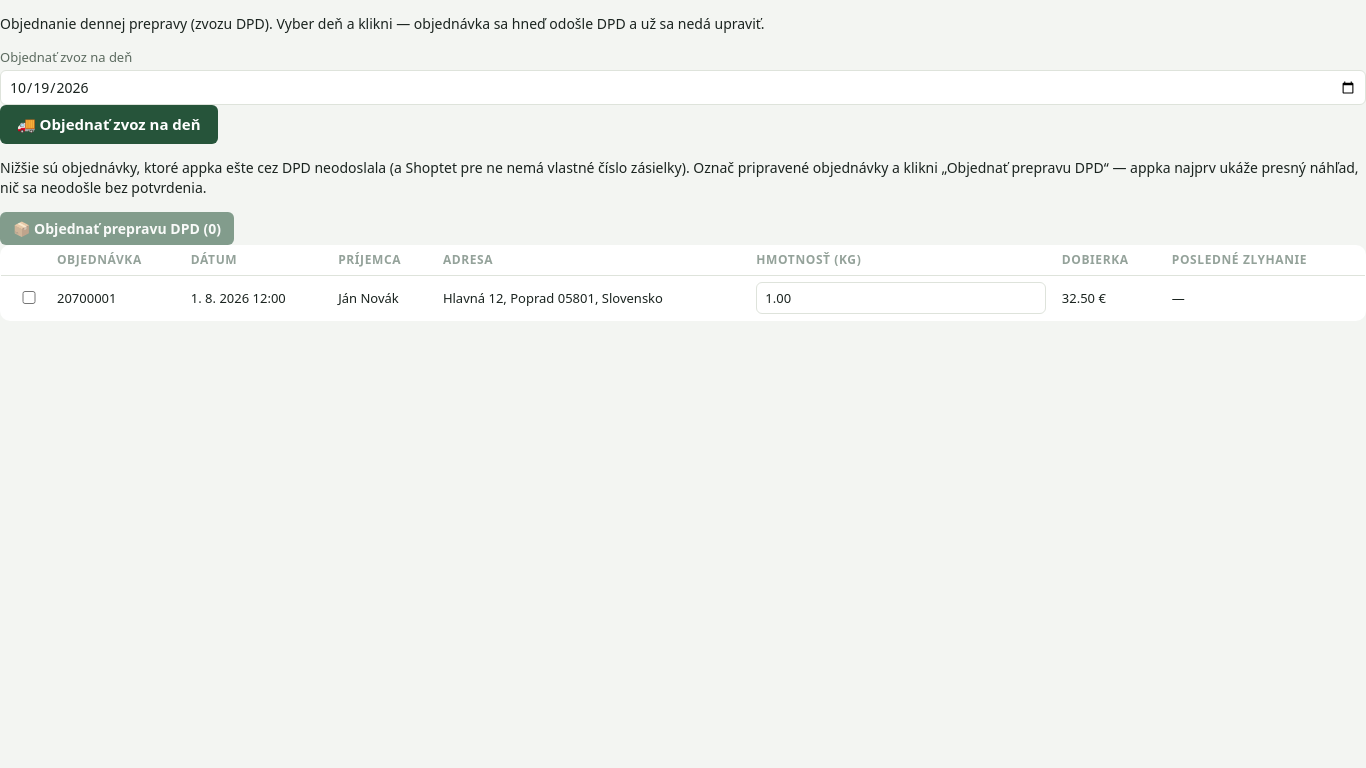
Test: výber objednávky → náhľad → potvrdenie odošle IBA po druhom kliku, nikdy pri otvorení náhľadu
Click the checkbox named "Vybrať objednávku 20700001" at [29, 298], box [13,291,45,304]
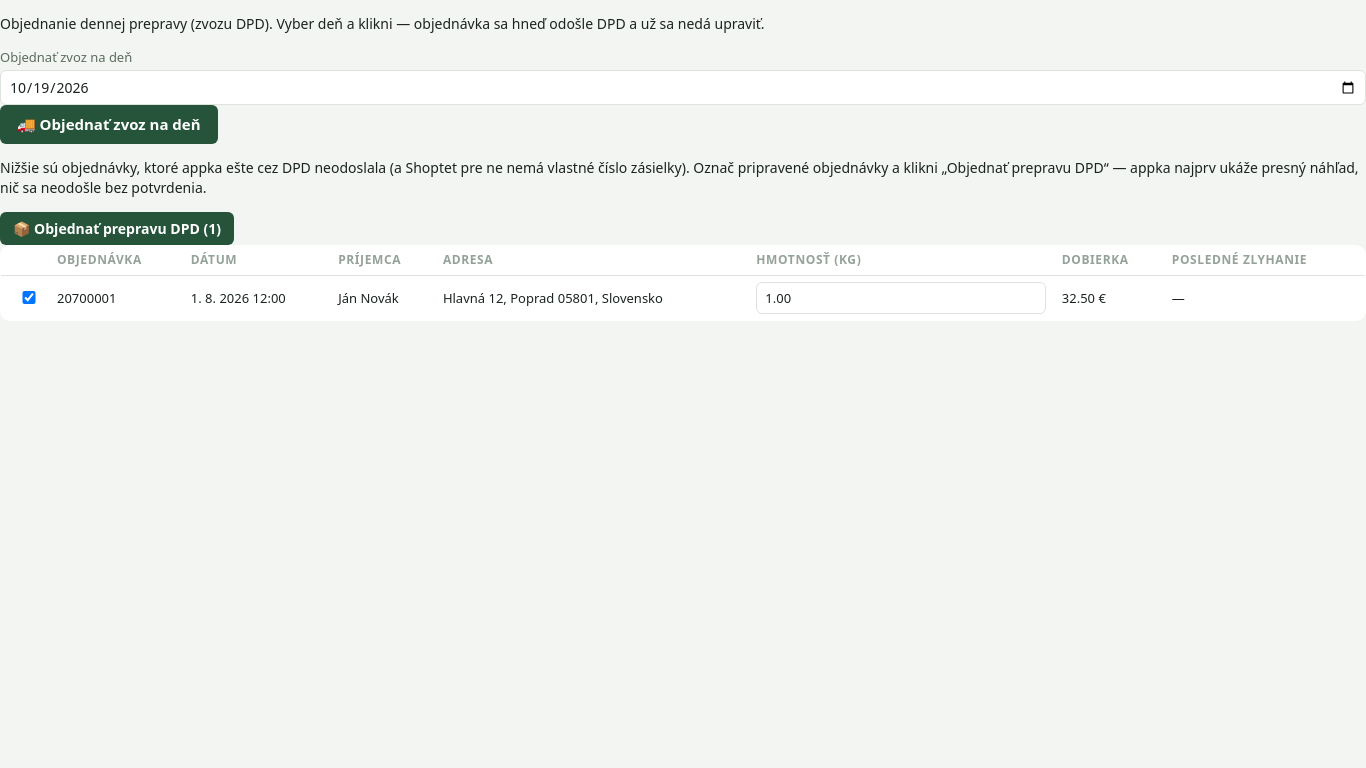
Click the button with test id "dpd-open-preview" at [117, 228], box [0,212,234,245]
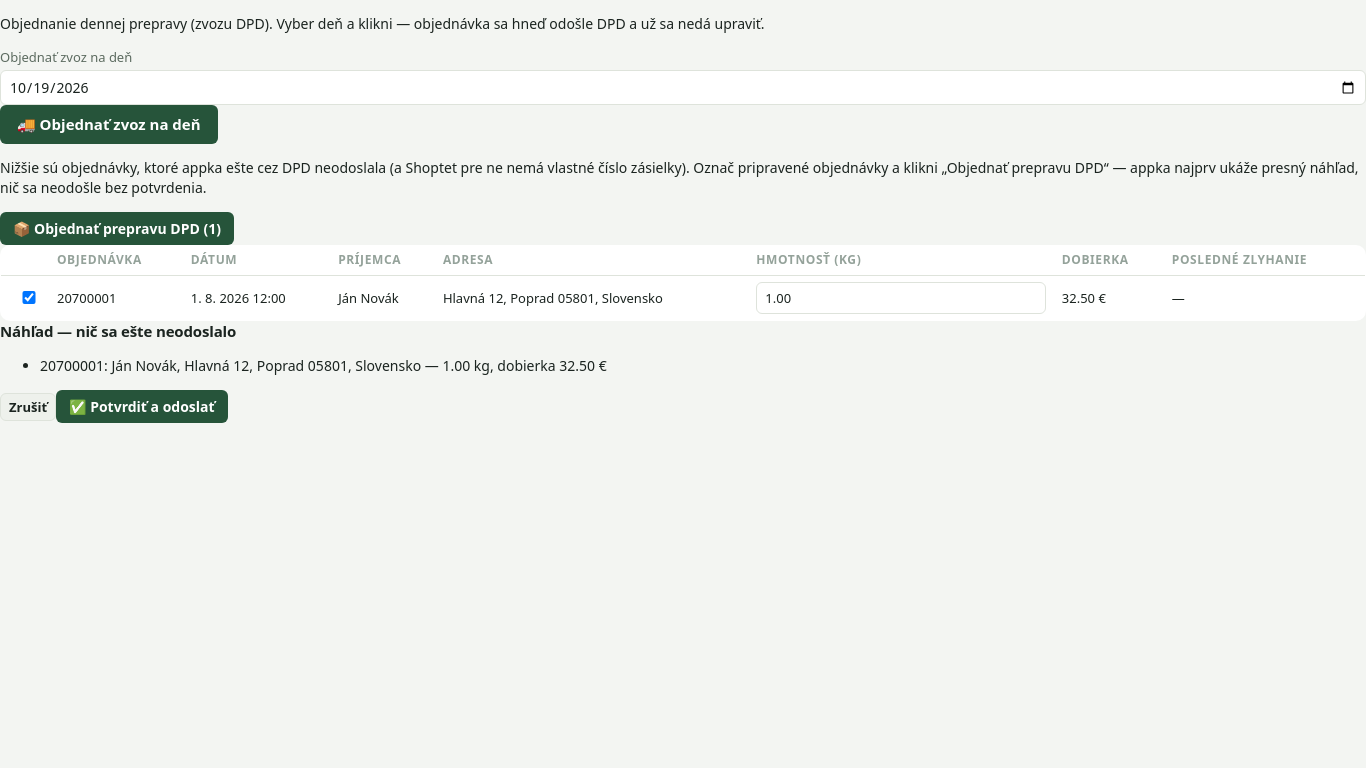
Now the dialog with test id "dpd-preview-dialog" is shown, box [0,321,607,423]
Now the list item with test id "dpd-preview-item-20700001" shows "Hlavná 12, Poprad 05801, Slovensko", box [40,356,607,375]
Click the button with test id "dpd-preview-confirm" at [142, 406], box [56,390,228,423]
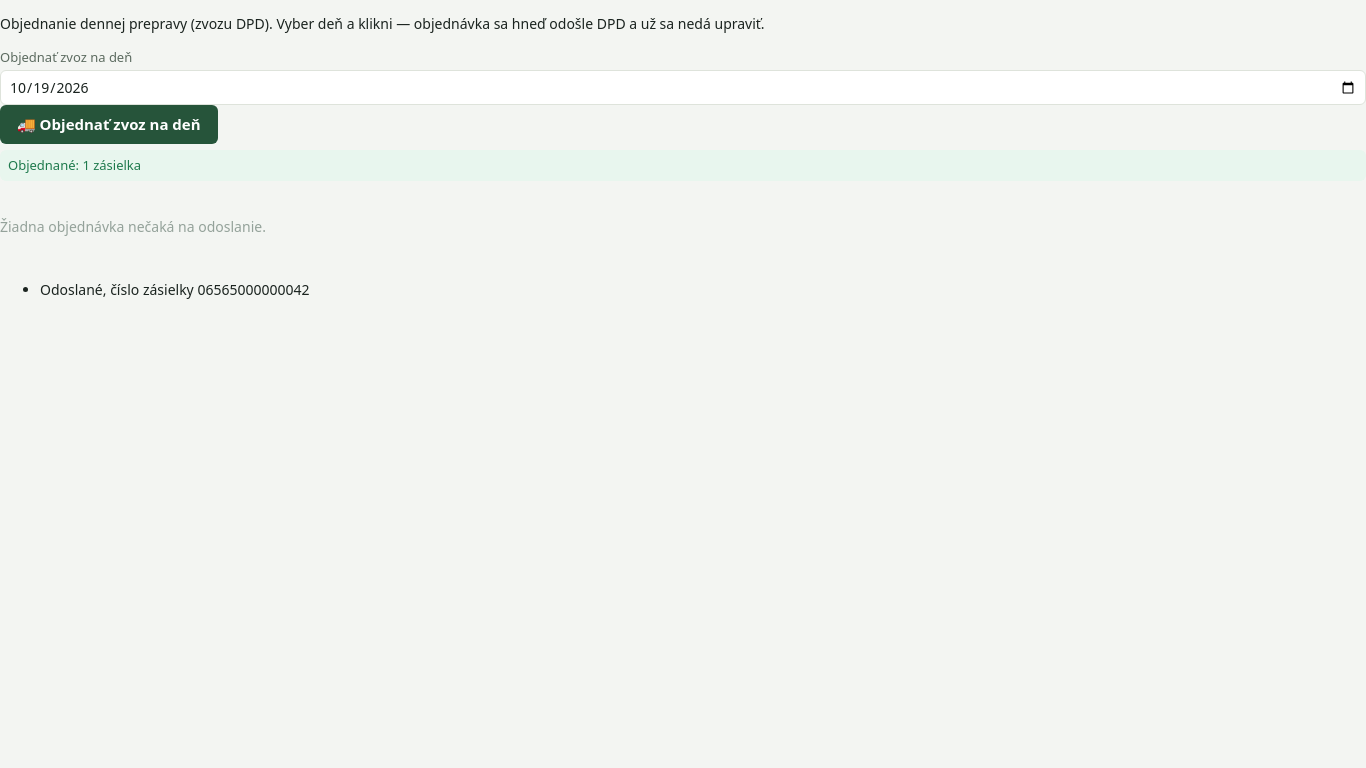
Now the list item with test id "dpd-result-order-a" shows "06565000000042", box [40,280,310,299]
Now the dialog with test id "dpd-preview-dialog" is gone
